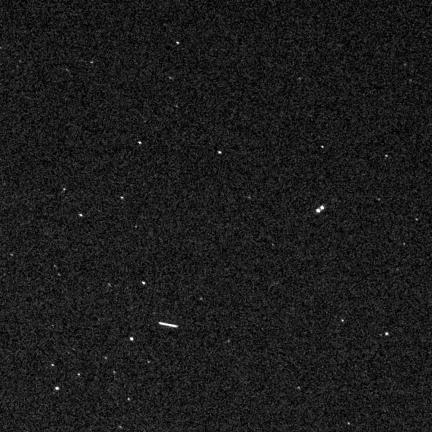blob: (55, 387, 60, 391), (130, 337, 134, 342), (142, 281, 146, 286), (138, 141, 142, 145), (218, 151, 222, 155), (51, 364, 55, 367), (121, 197, 125, 200), (78, 373, 81, 377), (176, 42, 180, 45), (79, 214, 82, 217), (321, 146, 324, 149), (385, 333, 388, 336), (148, 361, 151, 364)
